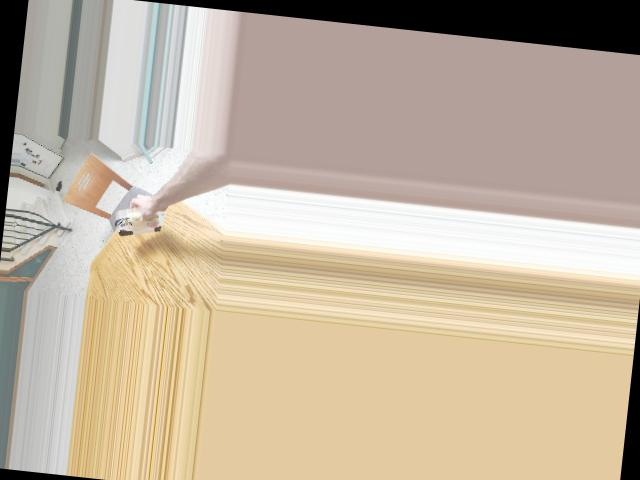cheese: (115, 203, 165, 240)
